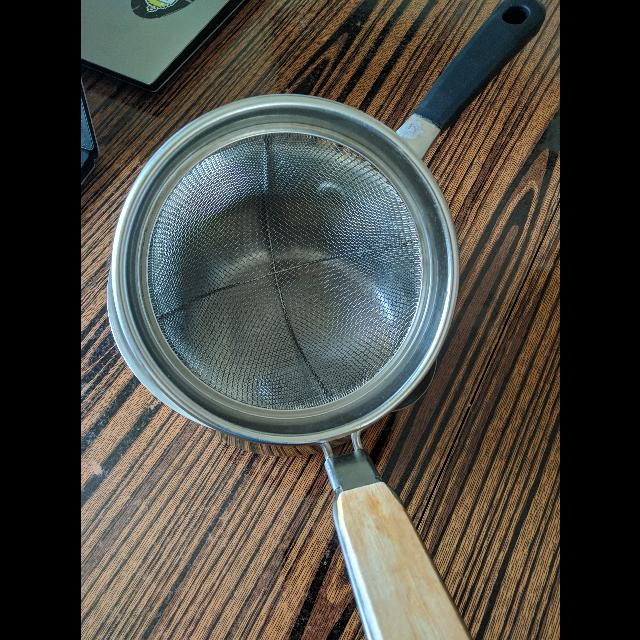Handle: (308, 438, 475, 640)
Strainer: (104, 90, 464, 450)
